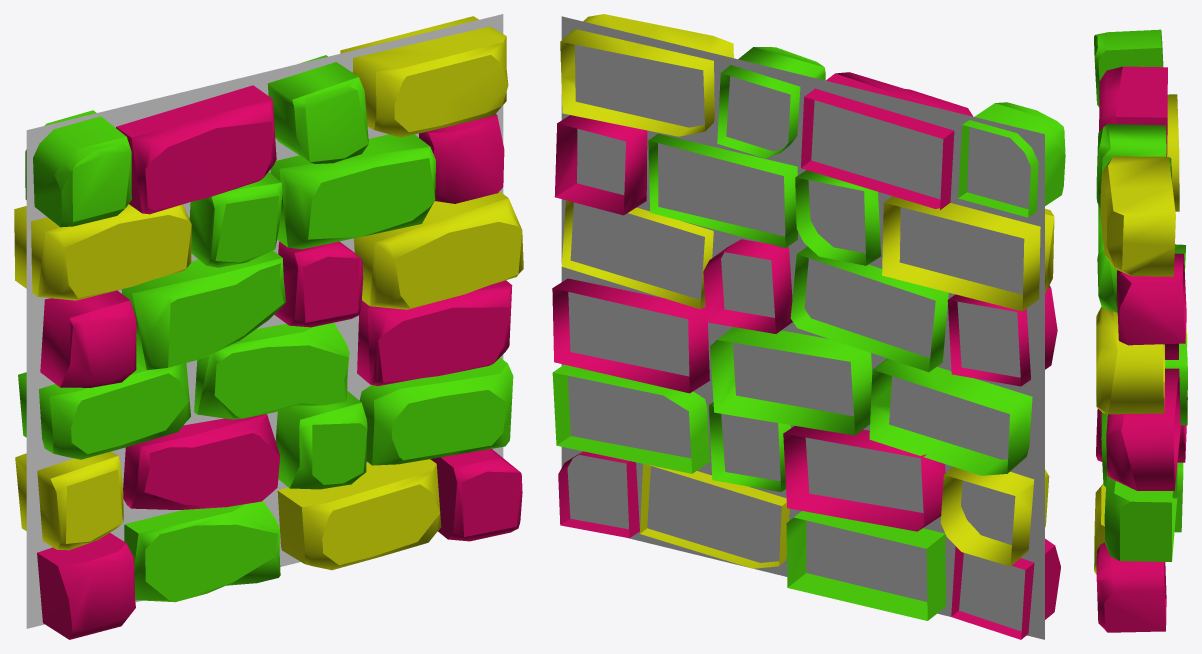
File: High-Poly-Soft-Block.fbx
3 renders of one model, left to right at view 1: azimuth 30°, elevation 25°; view 2: azimuth 150°, elevation 25°; view 3: azimuth 270°, elevation 25°, orthographic. The views are drawn at different scales.
Visible parts, largest first — view 1: Plane.005, Plane.003; view 2: Plane.003, Plane.005; view 3: Plane.005.
Part boxes in pixels (<box>): Plane.005: <box>14,16,523,639</box>; Plane.003: <box>26,14,503,628</box>; Plane.003: <box>561,16,1044,639</box>; Plane.005: <box>552,14,1065,639</box>; Plane.005: <box>1094,29,1187,632</box>.
Size of the model in its own units: 100 by 100 by 19.92.
